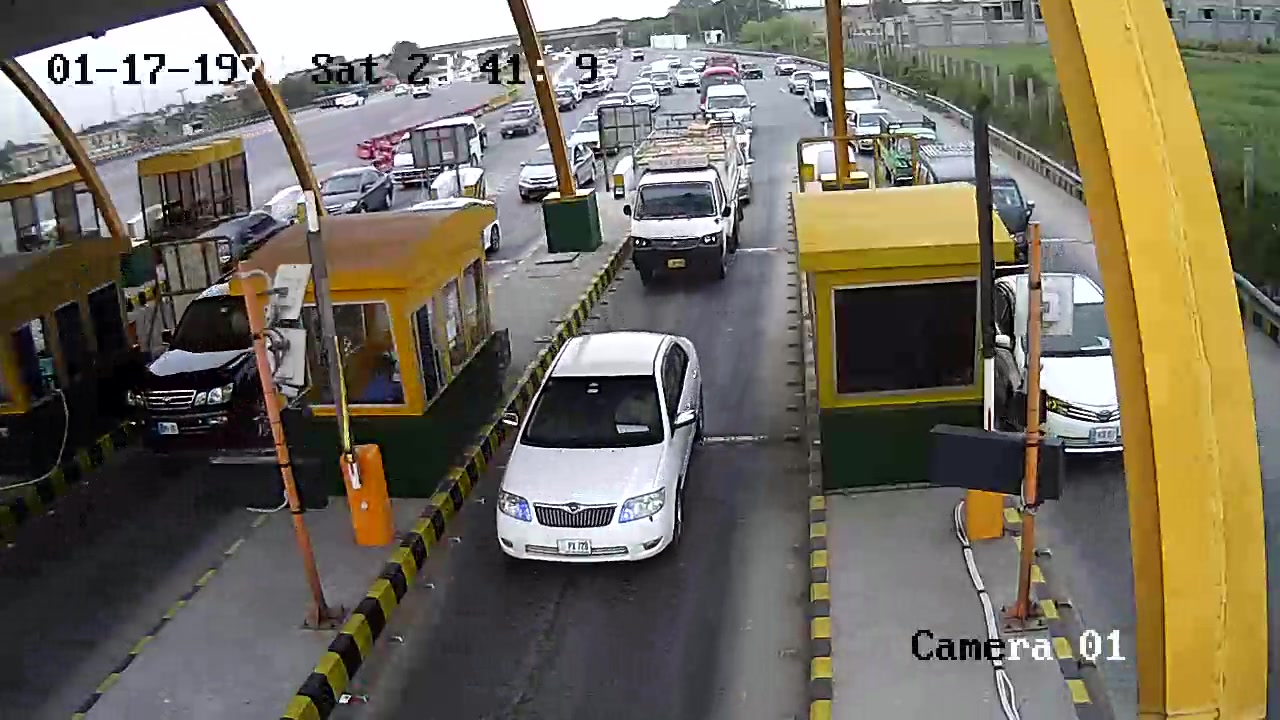F1: (483, 322, 716, 583)
